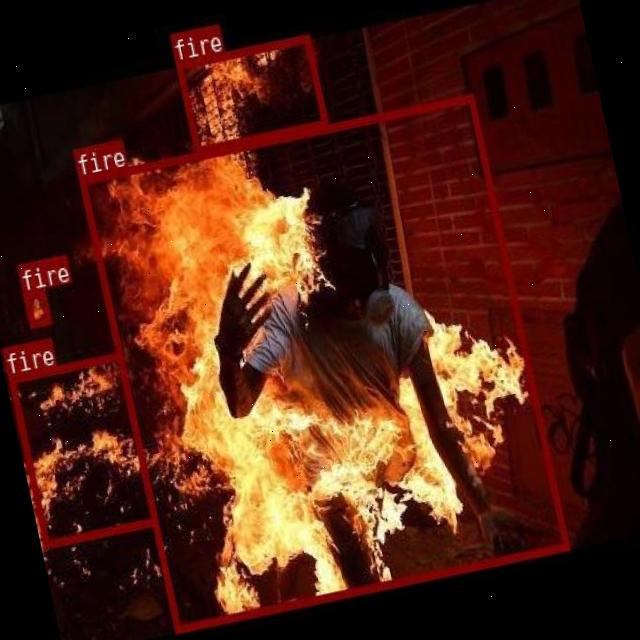fire: (78, 94, 568, 631), (7, 352, 156, 548), (174, 32, 327, 154), (22, 286, 50, 326)
